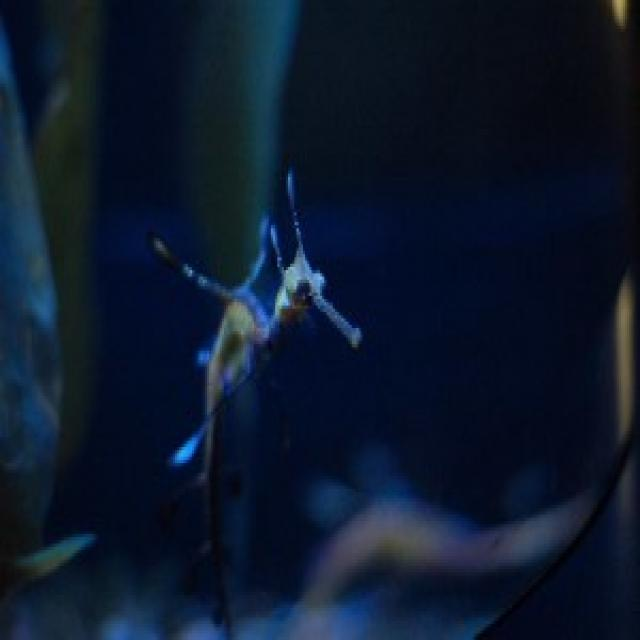Seahorse: (151, 161, 387, 594)
